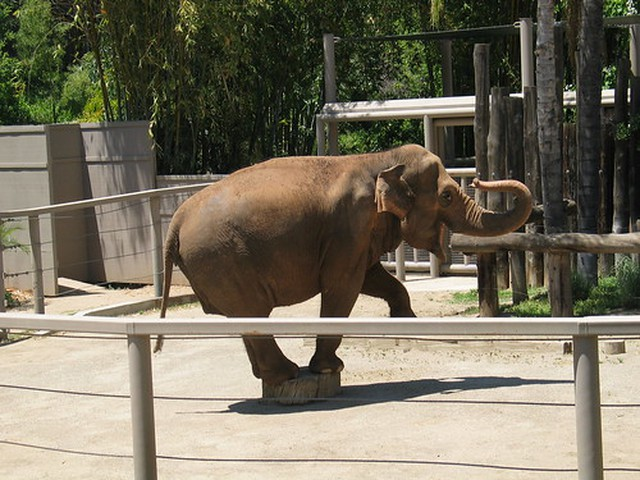Elephant: (158, 135, 534, 368)
